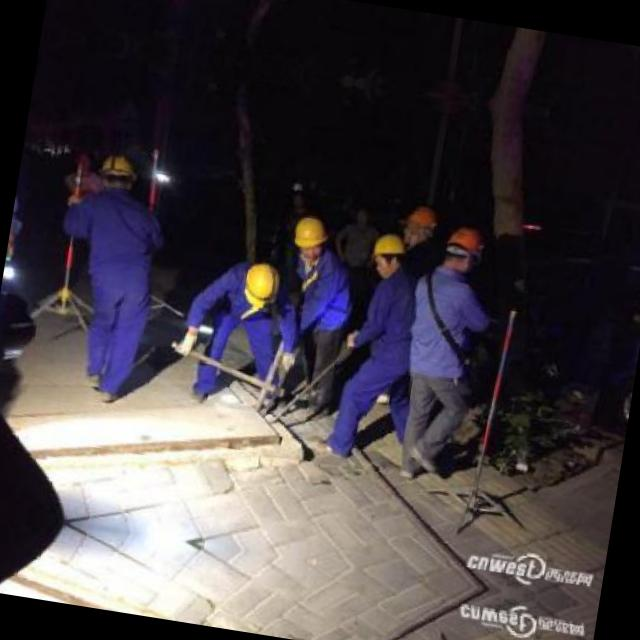helmet: (232, 256, 284, 315), (288, 208, 332, 266), (440, 222, 484, 276), (366, 229, 408, 279), (95, 149, 137, 199), (398, 204, 439, 253)
